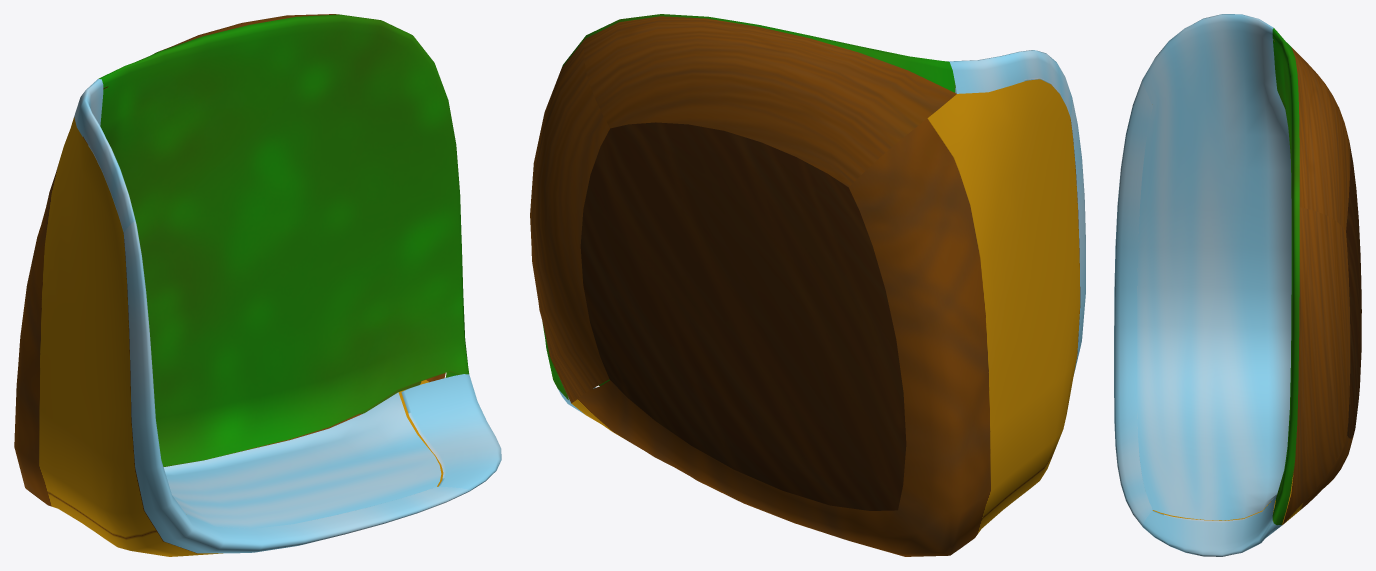
File: platform.obj
3 renders of one model, left to right at view 1: azimuth 30°, elevation 25°; view 2: azimuth 150°, elevation 25°; view 3: azimuth 270°, elevation 25°, orthographic. The views are drawn at different scales.
Parts seen in each view (by area): view 1: Cube; view 2: Cube; view 3: Cube.
Boxes of the visible parts, bbox=[...] form: Cube: bbox=[14, 14, 501, 556]; Cube: bbox=[530, 14, 1085, 556]; Cube: bbox=[1114, 14, 1361, 556].
Bounding box in the file's own units: 19.58 × 19.58 × 11.39.
1 material, 1 textured.
